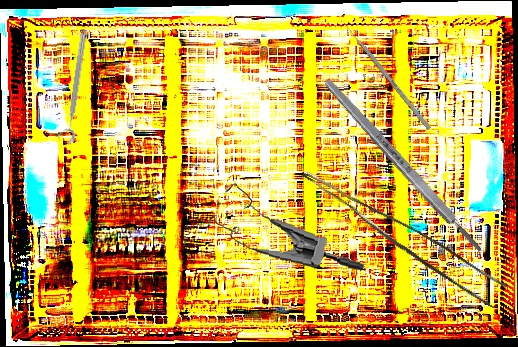Fixation Ring: (56, 31, 90, 145)
Pusher: (338, 16, 432, 131)
Scalpel Handle: (321, 75, 486, 257)
Speculum: (203, 181, 371, 273)
Tissue Forceps: (289, 169, 511, 310)
